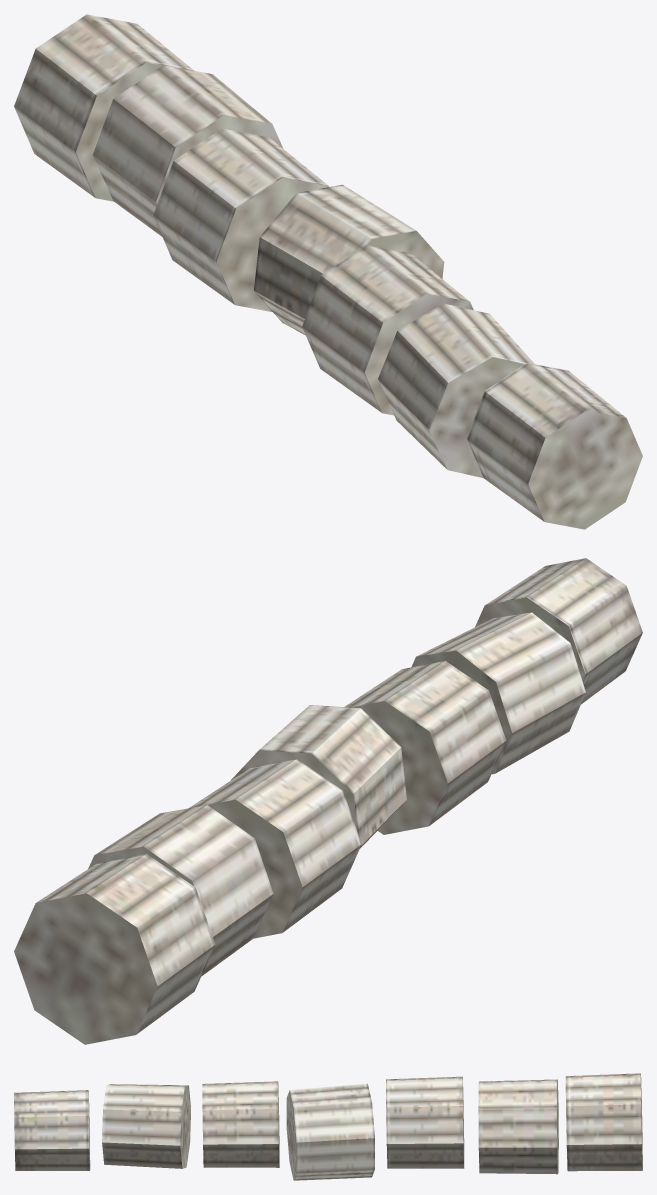
The model's file is column_fallen_a.dae.
3 views of the same model, one above another, from view 1: azimuth 30°, elevation 25°; view 2: azimuth 150°, elevation 25°; view 3: azimuth 270°, elevation 25° (orthographic). The views are drawn at different scales.
Visible parts, largest first — view 1: Cylinder_000-Pivot; view 2: Cylinder_000-Pivot; view 3: Cylinder_000-Pivot.
Boxes of the visible parts, bbox=[...] form: Cylinder_000-Pivot: bbox=[14, 14, 642, 529]; Cylinder_000-Pivot: bbox=[14, 558, 642, 1044]; Cylinder_000-Pivot: bbox=[14, 1073, 642, 1180].
Size of the model in its own units: 2.26 by 12.13 by 2.01.
